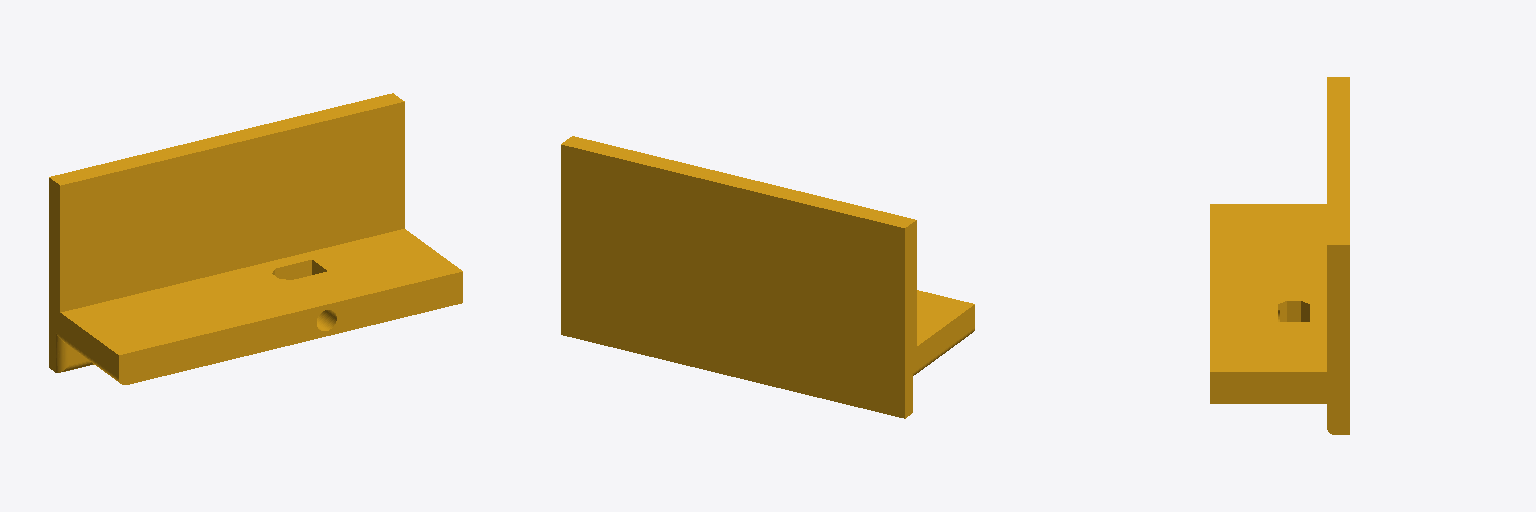
File: left.obj
3 views of the same model, side by side, from view 1: azimuth 30°, elevation 25°; view 2: azimuth 150°, elevation 25°; view 3: azimuth 270°, elevation 25° (orthographic).
Visible parts, largest first — view 1: Body2; view 2: Body2; view 3: Body2.
Boxes of the visible parts, x1,y1,x2,y2 form: Body2: [49, 93, 462, 384]; Body2: [561, 136, 974, 418]; Body2: [1210, 77, 1349, 434].
Bounding box in the file's own units: 85.13 × 45 × 30.